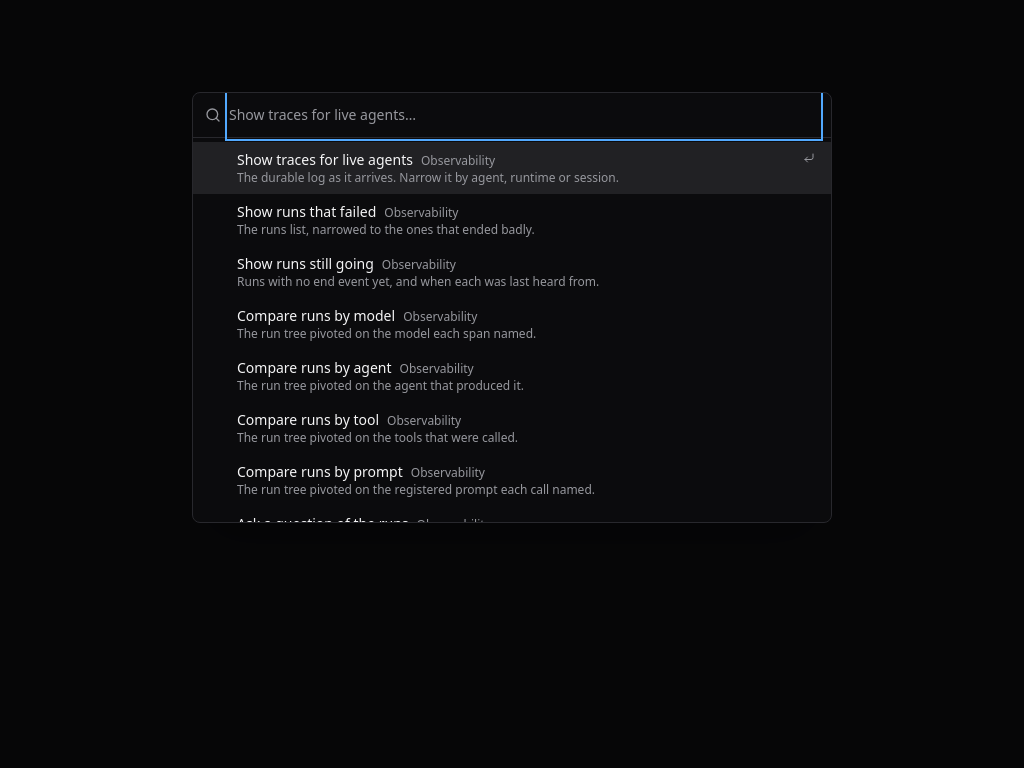
Test case: running a command › says what matched nothing rather than showing an empty box
Type "zzzzqqq" into the field named "Type a command" at (524, 115), box [229,93,819,137]
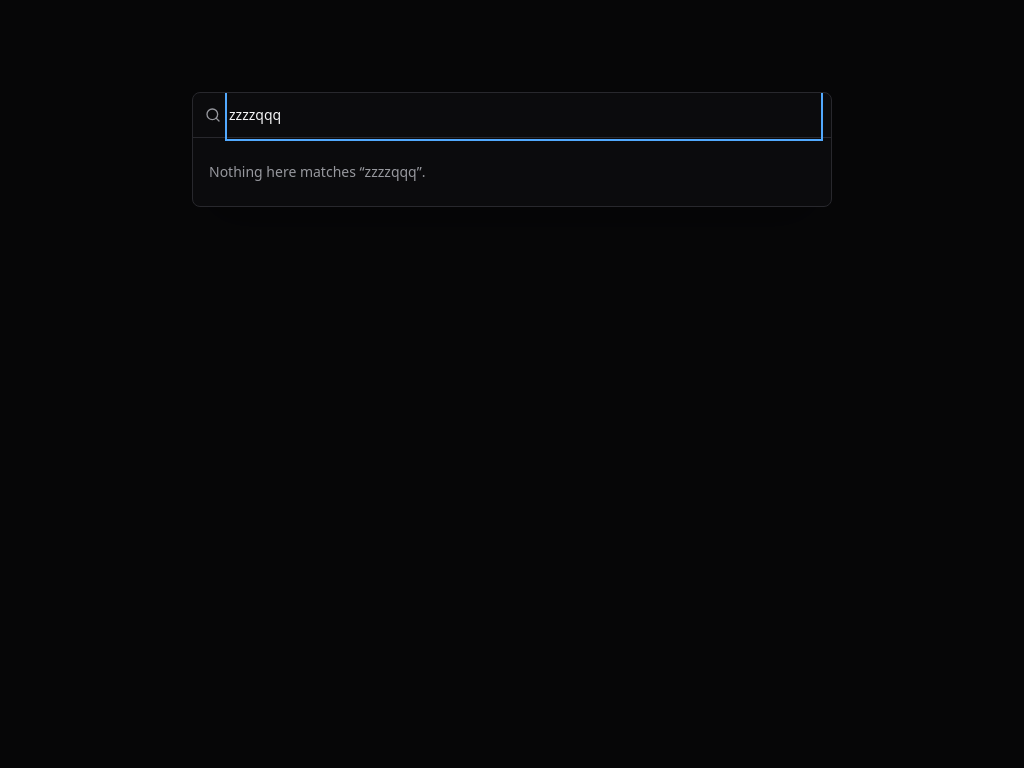
Check: the text "Nothing here matches “zzzzqqq”." is shown, box [209,162,426,181]
Check: no options are shown
